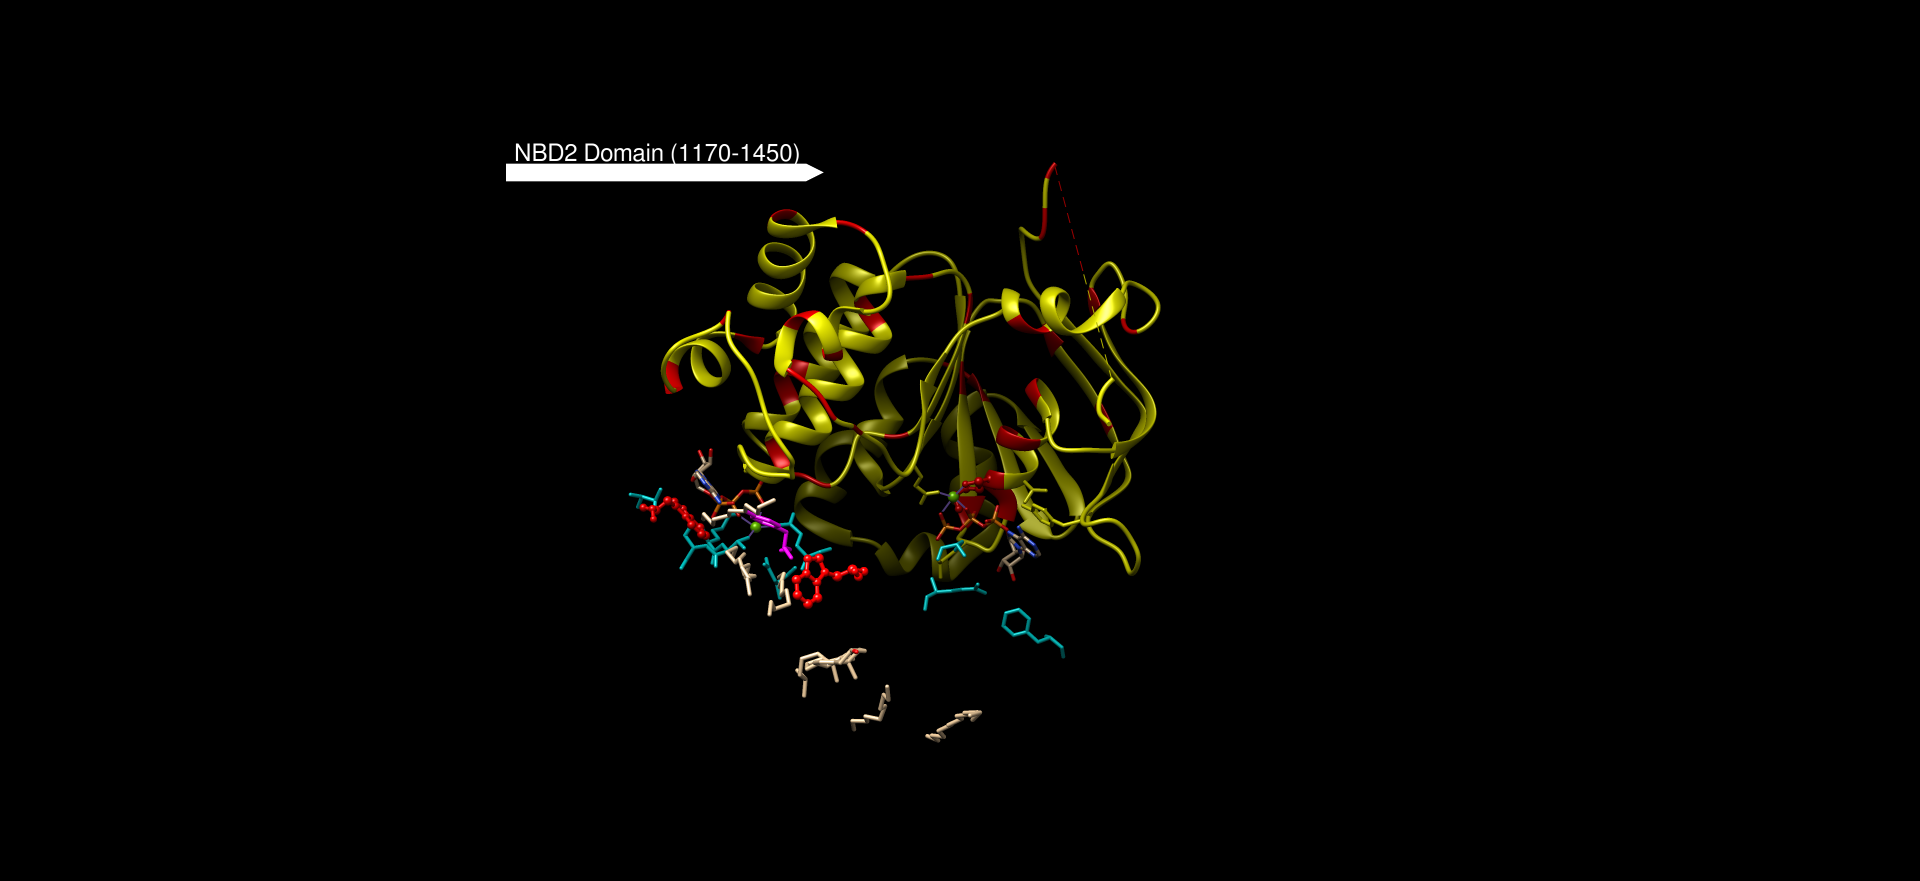

The dashboard page shown, as its layout file describes it:
{"tool":"powerbi","page":{"name":" \"Image Tooltip\"","canvas":[320,240],"ordinal":1},"visuals":[{"type":"tableEx","fields":{"Values":["DomainImages.Imagepath"]},"box":[10,0,303.9,220.2],"z":0}]}

Visuals, with their boxes on the page's 320x240 design canvas (x1, y1, x2, y2). These are canvas units, not pixel positions in the 1920x881 screenshot, which may show the page scaled, cropped or inside an application window:
tableEx - DomainImages.Imagepath: x1=10, y1=0, x2=314, y2=220
